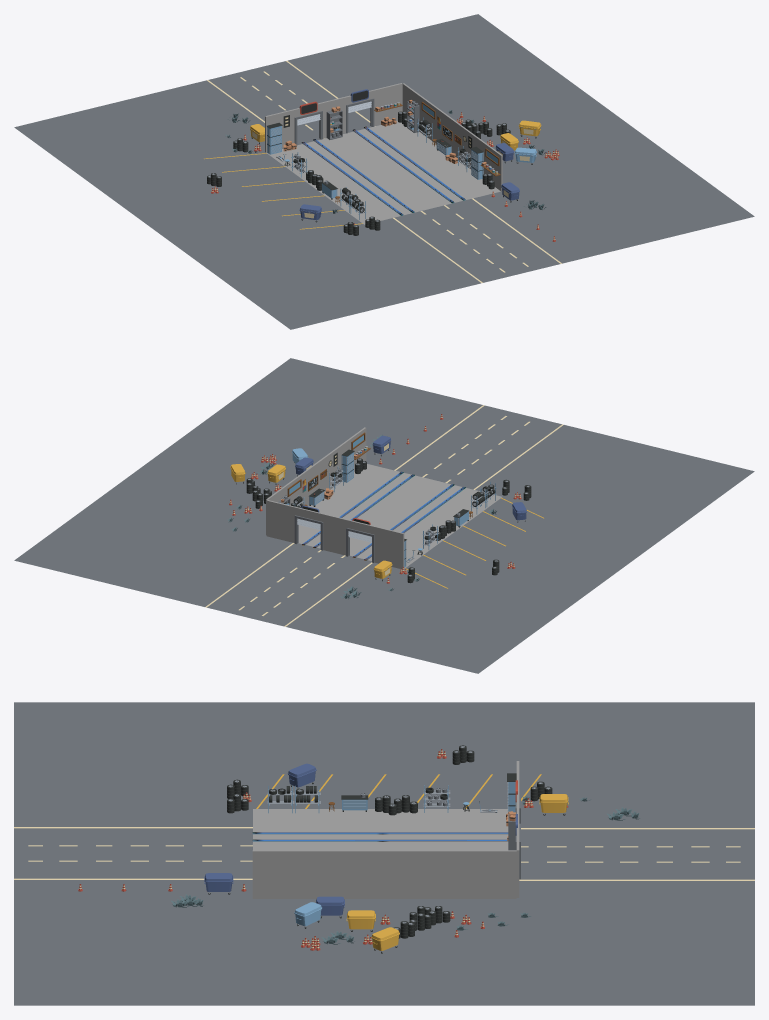
Rendered from SM_level.fbx.
3 renders of one model, top to bottom at view 1: azimuth 30°, elevation 25°; view 2: azimuth 150°, elevation 25°; view 3: azimuth 270°, elevation 25°, orthographic. The views are drawn at different scales.
Visible parts, largest first — view 1: SM_level; view 2: SM_level; view 3: SM_level.
Boxes of the visible parts, <box> form: SM_level: <box>14,14,754,329</box>; SM_level: <box>14,358,754,673</box>; SM_level: <box>14,702,754,1005</box>.
Size of the model in its own units: 5438 by 485 by 5615.
